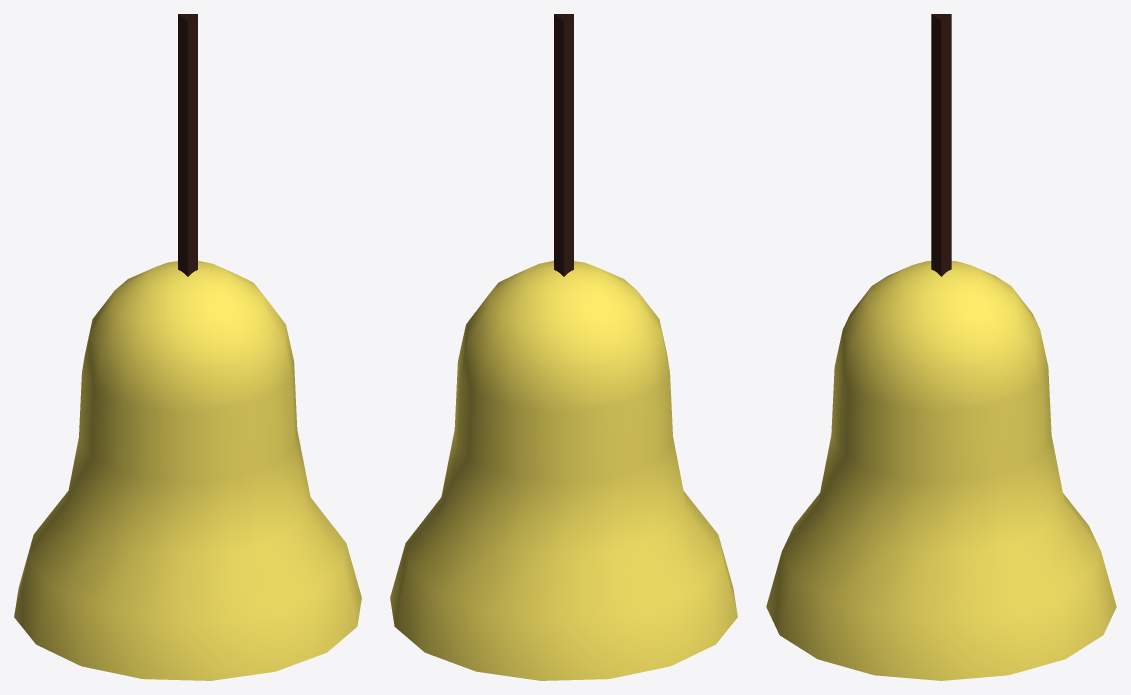
Rendered from Bell.FBX.
3 renders of one model, left to right at view 1: azimuth 30°, elevation 25°; view 2: azimuth 150°, elevation 25°; view 3: azimuth 270°, elevation 25°, orthographic.
Visible parts, largest first — view 1: church_c; view 2: church_c; view 3: church_c.
Boxes of the visible parts, box(x1,y1,x2,y2) form: church_c: box(14, 14, 361, 680); church_c: box(390, 14, 737, 680); church_c: box(766, 14, 1116, 680).
Size of the model in its own units: 220 by 410 by 220.
